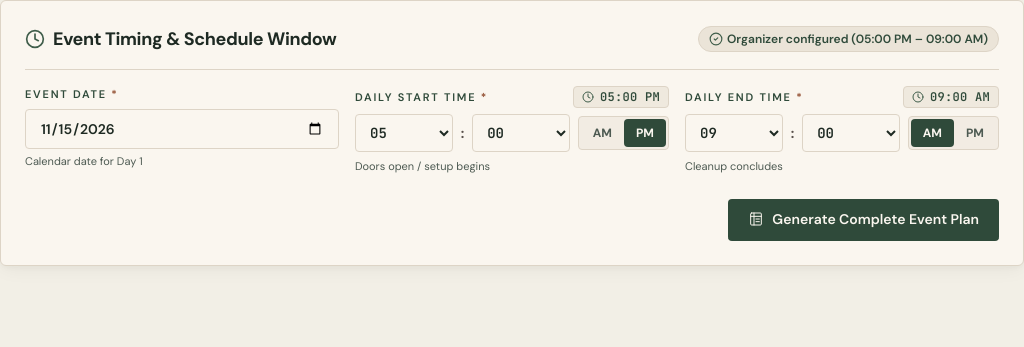
Test: Complete Event Plan (Phase 3 Frontend) › validates timing form before submitting: rejects end time earlier than start time
The width and height of the screenshot is (1024, 347).
Click the button "Generate Complete Event Plan".
click(864, 220)  # box [728,198,999,240]
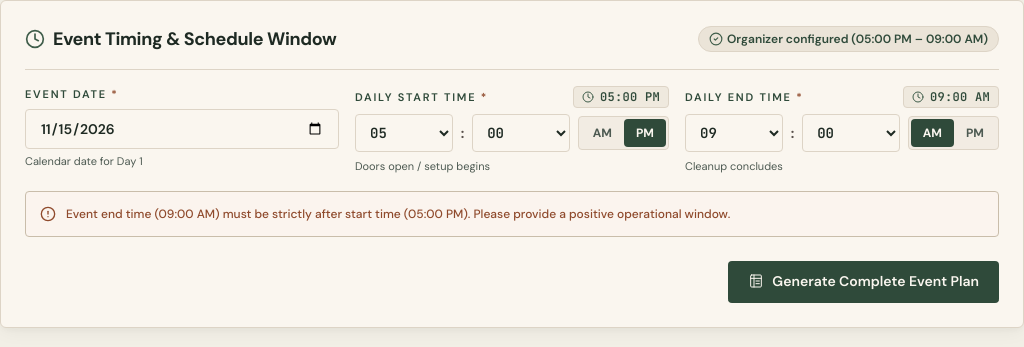
Expected: the message shows "must be strictly after start time", [66,206,730,222]
